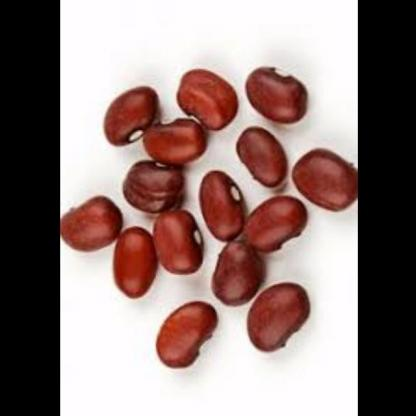fasol: (59, 50, 357, 373)
